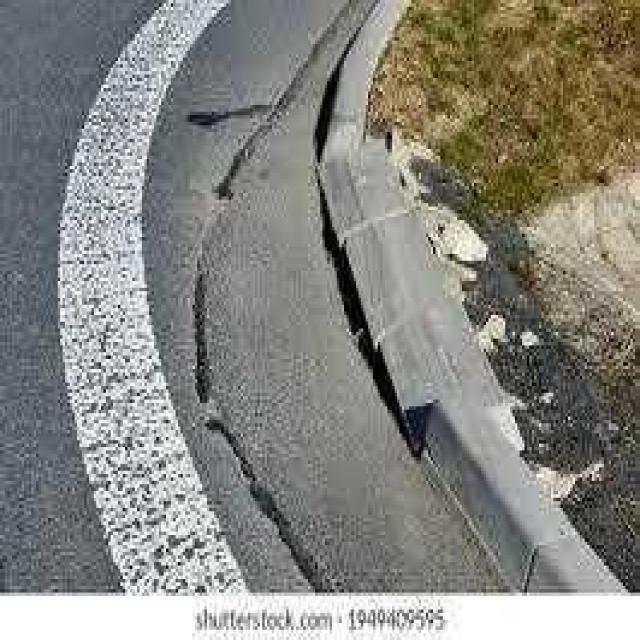curb: (320, 1, 616, 593), (427, 402, 626, 594)
